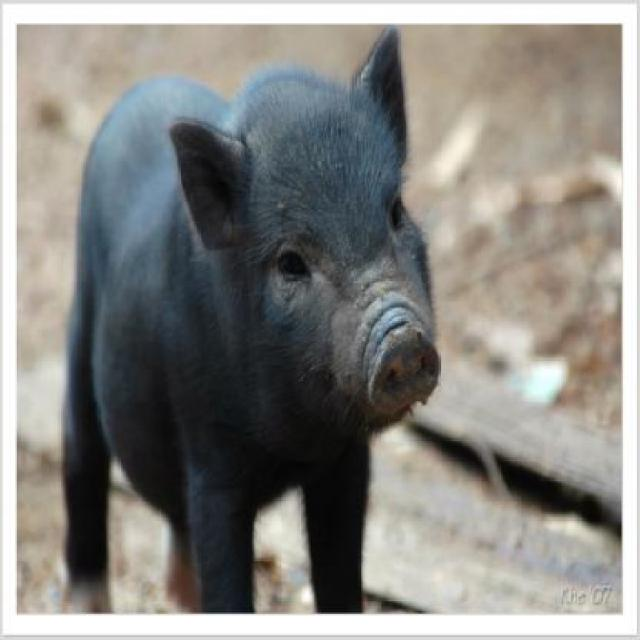pig: (60, 21, 444, 617)
